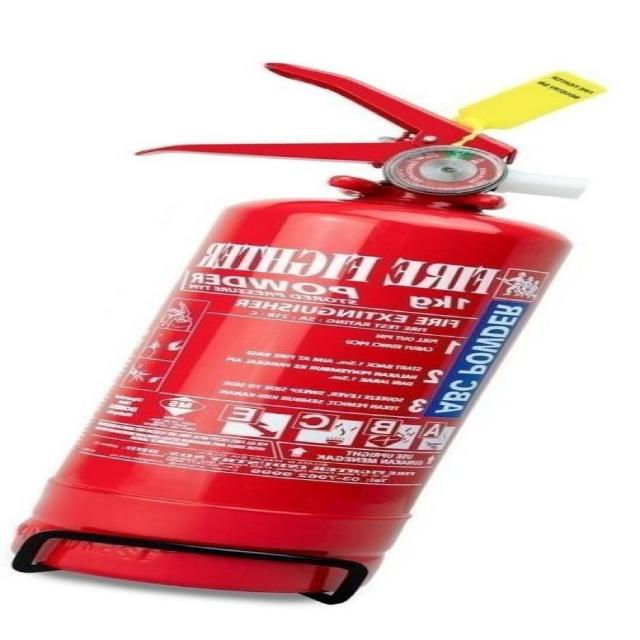fire_extinguisher: (0, 55, 608, 612)
